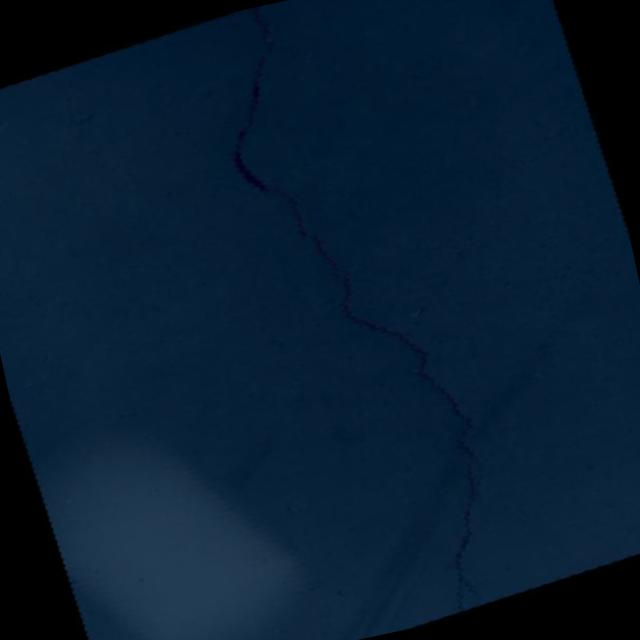crack: (188, 0, 529, 640)
